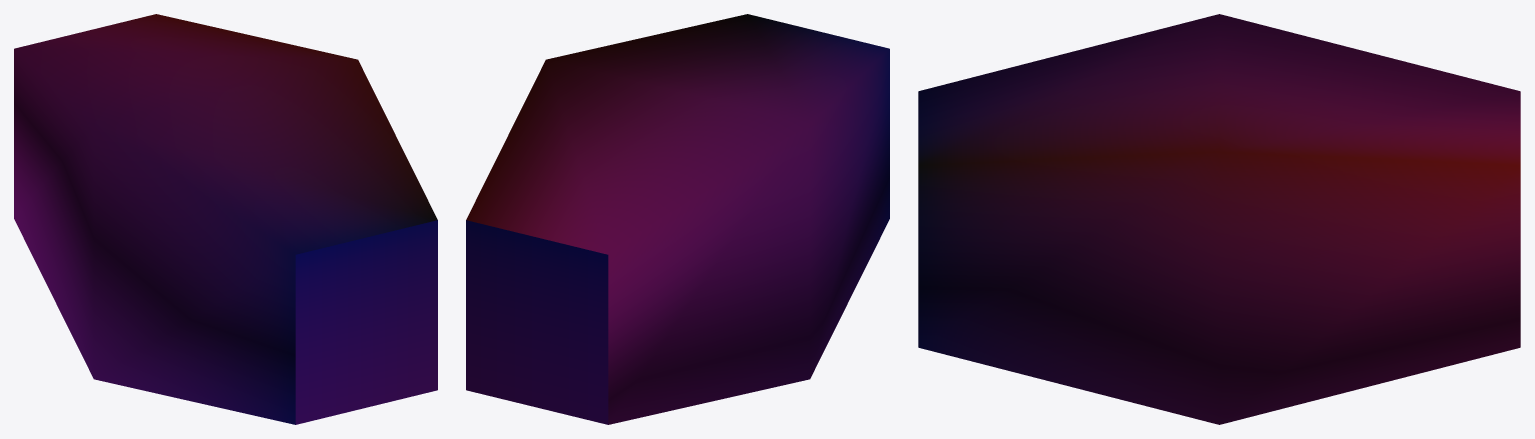
3 views of the same model, side by side, from view 1: azimuth 30°, elevation 25°; view 2: azimuth 150°, elevation 25°; view 3: azimuth 270°, elevation 25° (orthographic). The views are drawn at different scales.
Visible parts, largest first — view 1: part; view 2: part; view 3: part.
Boxes of the visible parts, bbox=[...] form: part: bbox=[14, 14, 437, 424]; part: bbox=[466, 14, 889, 424]; part: bbox=[918, 14, 1520, 424].
Size of the model in its own units: 1677 by 1548 by 3096.
